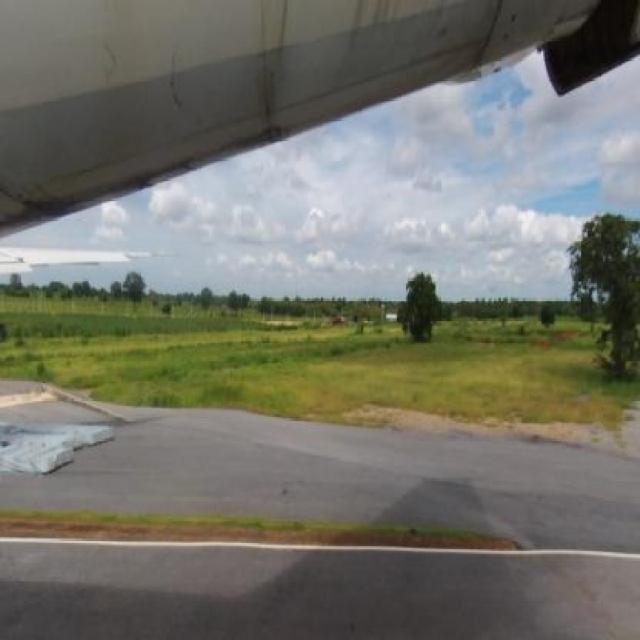Rust: (339, 1, 503, 90), (95, 26, 202, 122), (244, 2, 305, 147), (2, 167, 102, 241), (120, 137, 208, 211)
